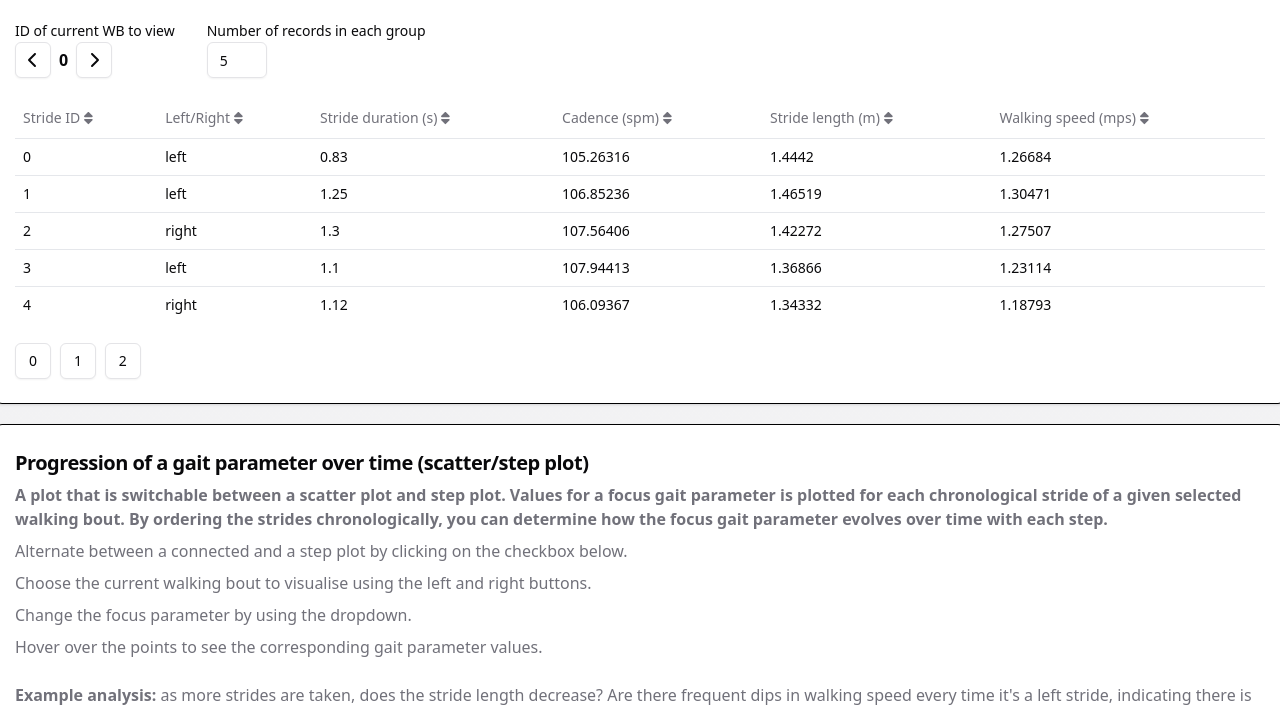
Test: StrideAnalysis › paginates the stride records correctly
(page scrolled)
Check: the number of rows with test id "table-stride-row" is 5, box [15,138,1265,175]; [15,175,1265,212]; [15,212,1265,249]; [15,249,1265,286]; [15,286,1265,322]
Check: the text "0" is shown, box [15,138,157,175]
# click on the next page.
Step 1. Click the button with test id "table-pagination-button" → (78,360), box [60,342,96,378]
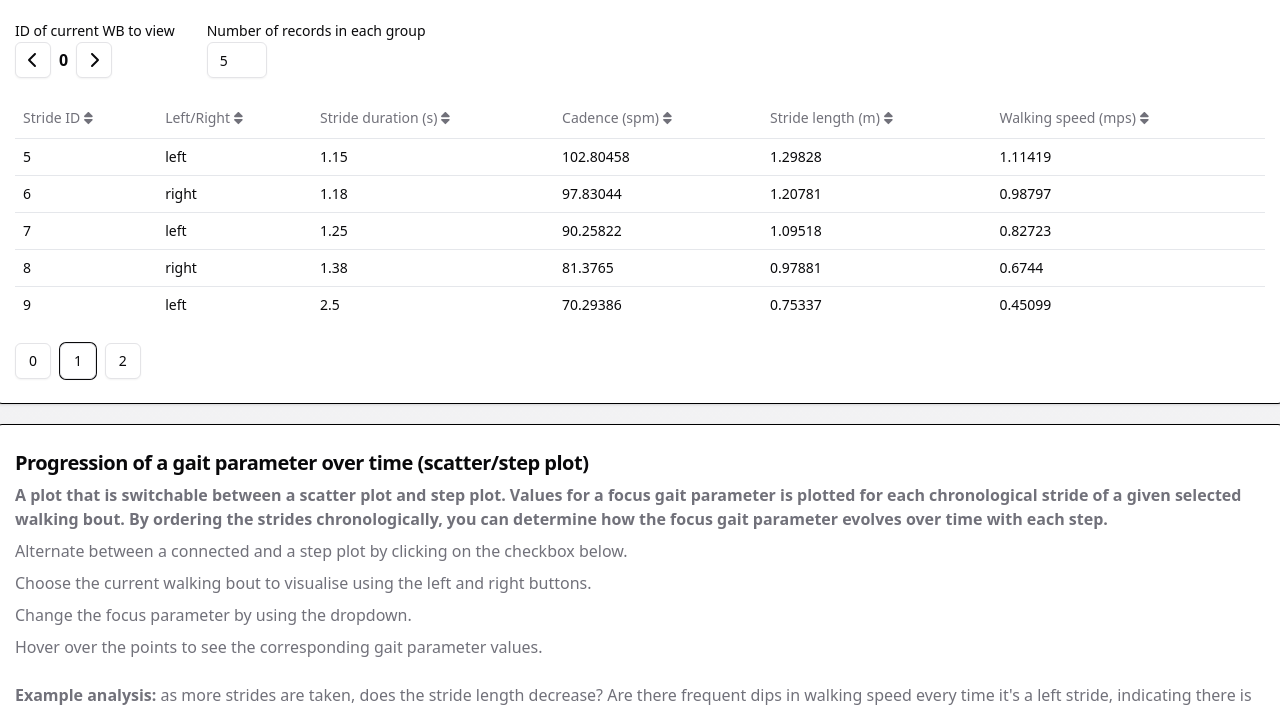
Check: the number of rows with test id "table-stride-row" is 5, box [15,138,1265,175]; [15,175,1265,212]; [15,212,1265,249]; [15,249,1265,286]; [15,286,1265,322]
Check: the text "5" is shown, box [15,138,157,175]
Check: the text "9" is shown, box [15,286,157,322]
